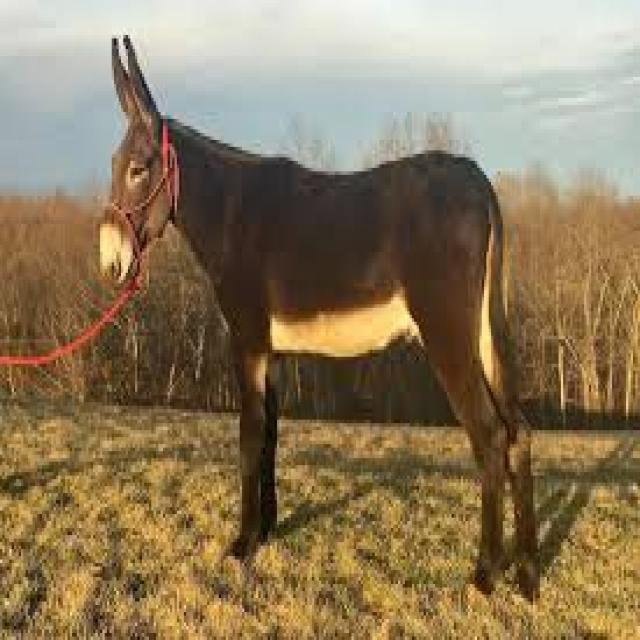Donkey: (91, 16, 551, 606)
